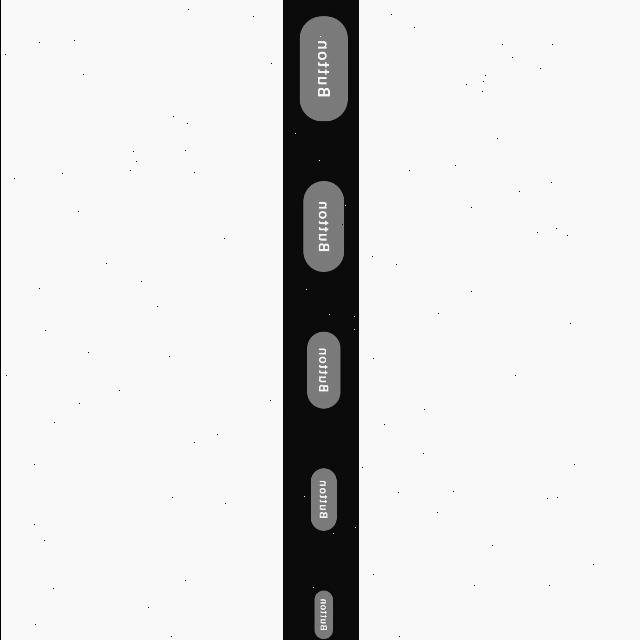QLabel: (316, 40, 328, 100), (317, 200, 329, 253), (316, 344, 328, 394), (318, 479, 327, 519), (318, 597, 326, 631)
VBtn: (298, 16, 348, 122), (302, 180, 344, 272), (306, 330, 340, 410), (309, 468, 337, 532), (312, 590, 332, 640)
